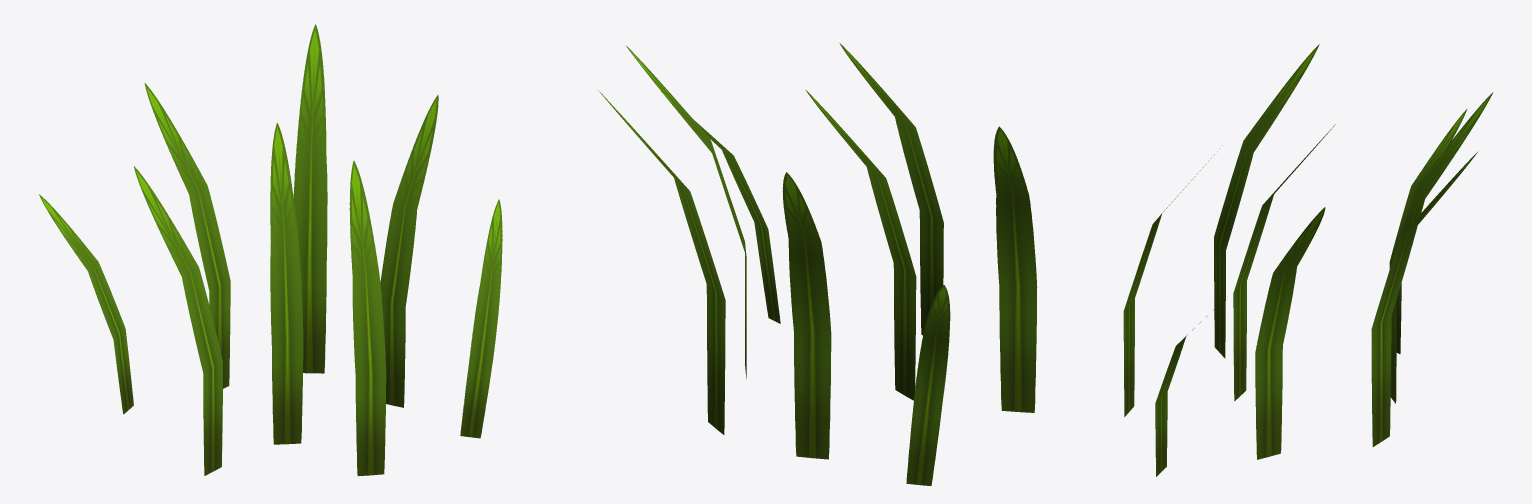
The model's file is Grass_04a.FBX.
3 renders of one model, left to right at view 1: azimuth 30°, elevation 25°; view 2: azimuth 150°, elevation 25°; view 3: azimuth 270°, elevation 25°, orthographic. The views are drawn at different scales.
Visible parts, largest first — view 1: Grass_04a; view 2: Grass_04a; view 3: Grass_04a.
Part boxes in pixels (x1,y1,x2,y2): Grass_04a: (39, 24, 502, 476); Grass_04a: (597, 43, 1037, 485); Grass_04a: (1123, 44, 1493, 476).
Bounding box in the file's own units: 15.38 × 11.29 × 12.55.
1 material, 1 textured.
